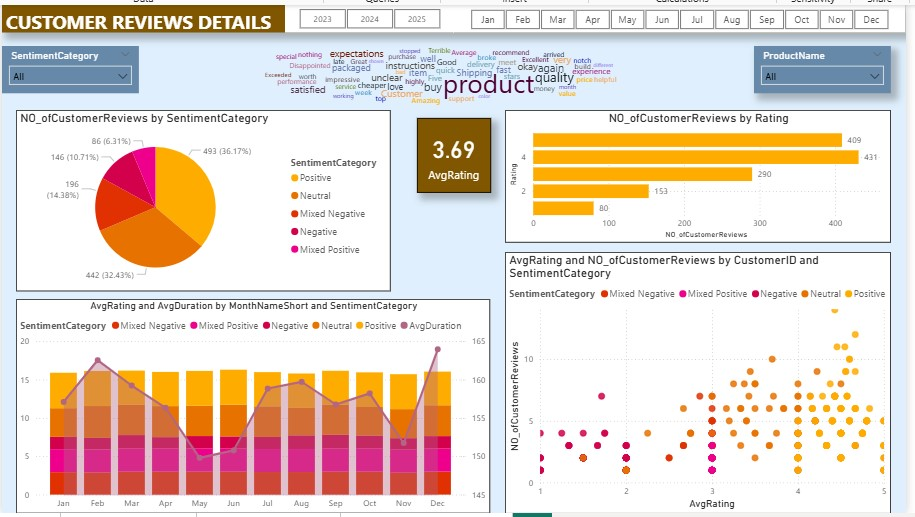

This screenshot's page, from the dashboard's own definition file:
{"tool":"powerbi","page":{"name":"CustomerReview Details","canvas":[1280,720],"ordinal":3},"visuals":[{"type":"textbox","box":[0,0,1280,38.8],"z":0},{"type":"slicer","fields":{"Values":["dim_products.ProductName"]},"box":[1066.3,57.8,194,67.5],"z":1000},{"type":"card","fields":{"Values":["Calcultions_Measures.AvgRating"]},"box":[587.7,160.6,104.5,105.8],"z":2000},{"type":"slicer","fields":{"Values":["Calendar.Year"]},"box":[401.2,0,238.6,38.6],"z":3000},{"type":"slicer","fields":{"Values":["Calendar.MonthNameShort"]},"box":[639.8,0,641,38.6],"z":4000},{"type":"lineStackedColumnComboChart","fields":{"Category":["Calendar.MonthNameShort"],"Series":["fact_customer_reviews_with_sentiment.SentimentCategory"],"Y":["Calcultions_Measures.AvgRating"],"Y2":["Calcultions_Measures.AvgDuration"]},"box":[20.5,416.9,672.3,303.6],"z":5000},{"type":"slicer","fields":{"Values":["fact_customer_reviews_with_sentiment.SentimentCategory"]},"box":[0,57.8,194,67.5],"z":6000},{"type":"clusteredBarChart","fields":{"Category":["fact_customer_reviews_with_sentiment.Rating"],"Y":["Calcultions_Measures.NO_ofCustomerReviews"]},"box":[713.3,148.2,547,188],"z":7000},{"type":"scatterChart","fields":{"Y":["Calcultions_Measures.NO_ofCustomerReviews"],"X":["Calcultions_Measures.AvgRating"],"Category":["dim_customers.CustomerID"],"Series":["fact_customer_reviews_with_sentiment.SentimentCategory"]},"box":[713.3,350.6,547,371.1],"z":8000},{"type":"pieChart","fields":{"Category":["fact_customer_reviews_with_sentiment.SentimentCategory"],"Y":["Calcultions_Measures.NO_ofCustomerReviews"]},"box":[20.5,148.2,531.3,256.6],"z":9000},{"type":"WordCloud1447959067750","fields":{"Category":["fact_customer_reviews_with_sentiment.ReviewText"]},"box":[357,48.4,710.1,133.9],"z":10000}]}

Visuals, with their boxes in screenshot pixels (x1, y1, x2, y2), scaled from the page's 1280x720 canvas onto the 915x517 screenshot:
textbox: x1=0 y1=0 x2=914 y2=28
slicer - dim_products.ProductName: x1=762 y1=42 x2=901 y2=90
card - Calcultions_Measures.AvgRating: x1=420 y1=115 x2=495 y2=191
slicer - Calendar.Year: x1=287 y1=0 x2=457 y2=28
slicer - Calendar.MonthNameShort: x1=457 y1=0 x2=914 y2=28
lineStackedColumnComboChart - Calendar.MonthNameShort x fact_customer_reviews_with_sentiment.SentimentCategory: x1=15 y1=299 x2=495 y2=516
slicer - fact_customer_reviews_with_sentiment.SentimentCategory: x1=0 y1=42 x2=139 y2=90
clusteredBarChart - fact_customer_reviews_with_sentiment.Rating x Calcultions_Measures.NO_ofCustomerReviews: x1=510 y1=106 x2=901 y2=241
scatterChart - Calcultions_Measures.NO_ofCustomerReviews x Calcultions_Measures.AvgRating: x1=510 y1=252 x2=901 y2=516
pieChart - fact_customer_reviews_with_sentiment.SentimentCategory x Calcultions_Measures.NO_ofCustomerReviews: x1=15 y1=106 x2=394 y2=291
WordCloud1447959067750 - fact_customer_reviews_with_sentiment.ReviewText: x1=255 y1=35 x2=763 y2=131
